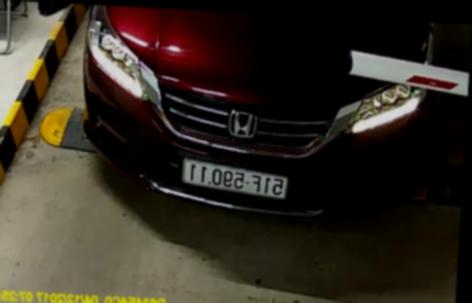License_Plate: (178, 159, 294, 198)
